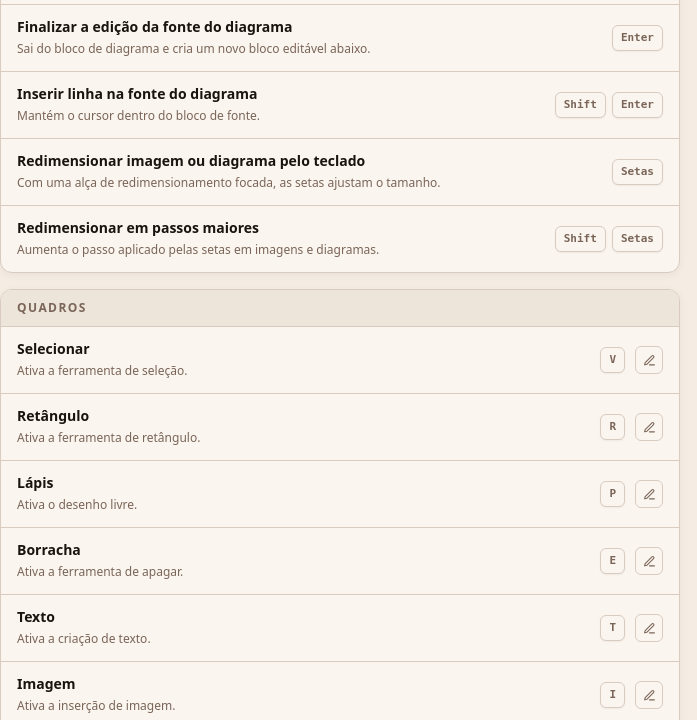
Test case: edicao de atalhos em Ajustes › mostra o motivo da recusa e continua capturando
(page scrolled)
Click the button named "Alterar o atalho: Selecionar" at (649, 360), box x1=635 y1=346 x2=663 y2=374
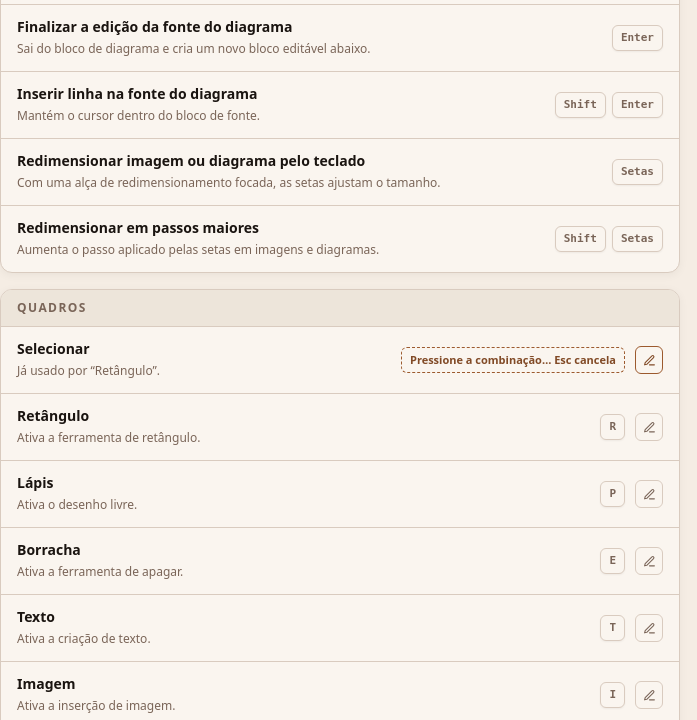
Result: the text "Pressione a combinação" is shown at x1=410 y1=352 x2=616 y2=367
